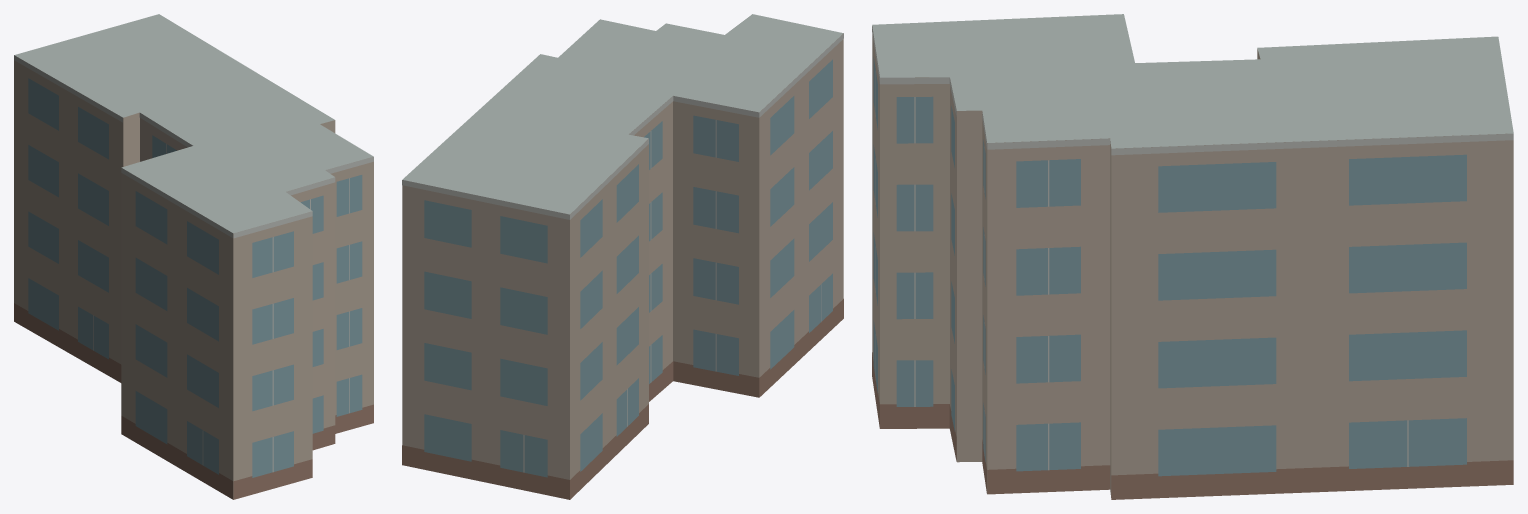
File: survey-upis-32929776.glb
The picture shows the model from 3 angles, left to right: view 1: azimuth 30°, elevation 25°; view 2: azimuth 150°, elevation 25°; view 3: azimuth 270°, elevation 25°; orthographic projection. The views are drawn at different scales.
Parts seen in each view (by area): view 1: survey-upis-32929776.tmp; view 2: survey-upis-32929776.tmp; view 3: survey-upis-32929776.tmp.
Boxes of the visible parts, box(x1,y1,x2,y2) form: survey-upis-32929776.tmp: box(14, 14, 373, 499); survey-upis-32929776.tmp: box(402, 14, 843, 499); survey-upis-32929776.tmp: box(872, 14, 1513, 499).
Bounding box in the file's own units: 10.53 × 12.8 × 21.2.
